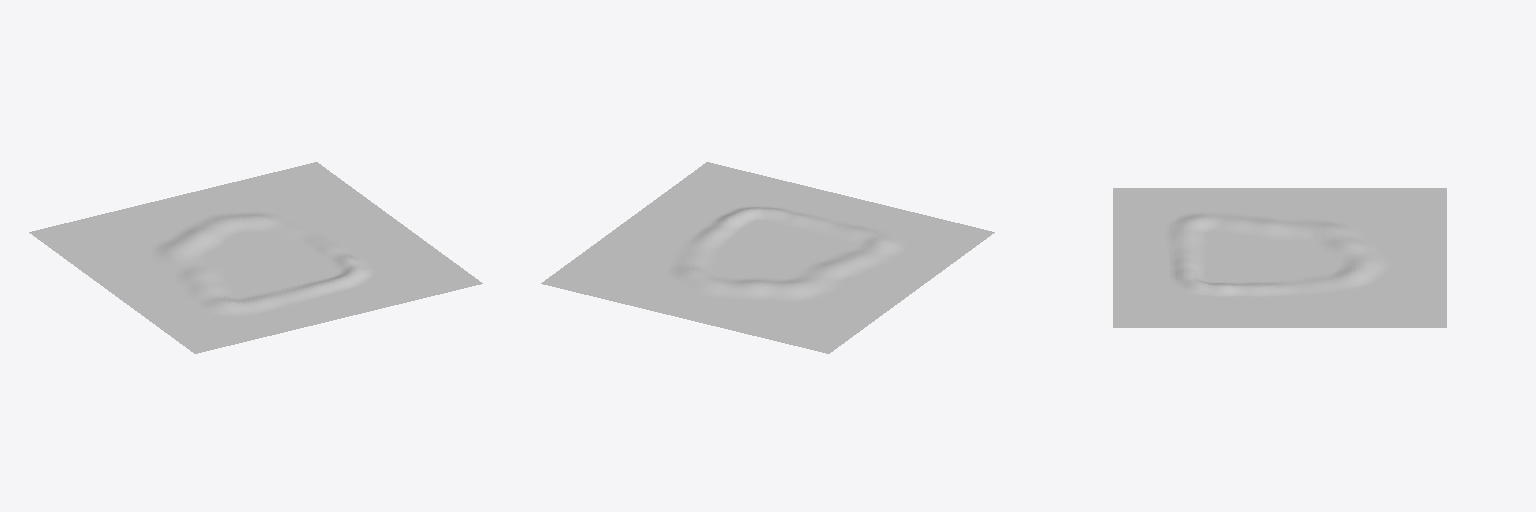
The model's file is carrellage_Scene.obj.
3 renders of one model, left to right at view 1: azimuth 30°, elevation 25°; view 2: azimuth 150°, elevation 25°; view 3: azimuth 270°, elevation 25°, orthographic.
Bounding box in the file's own units: 10 × 0.1338 × 10.